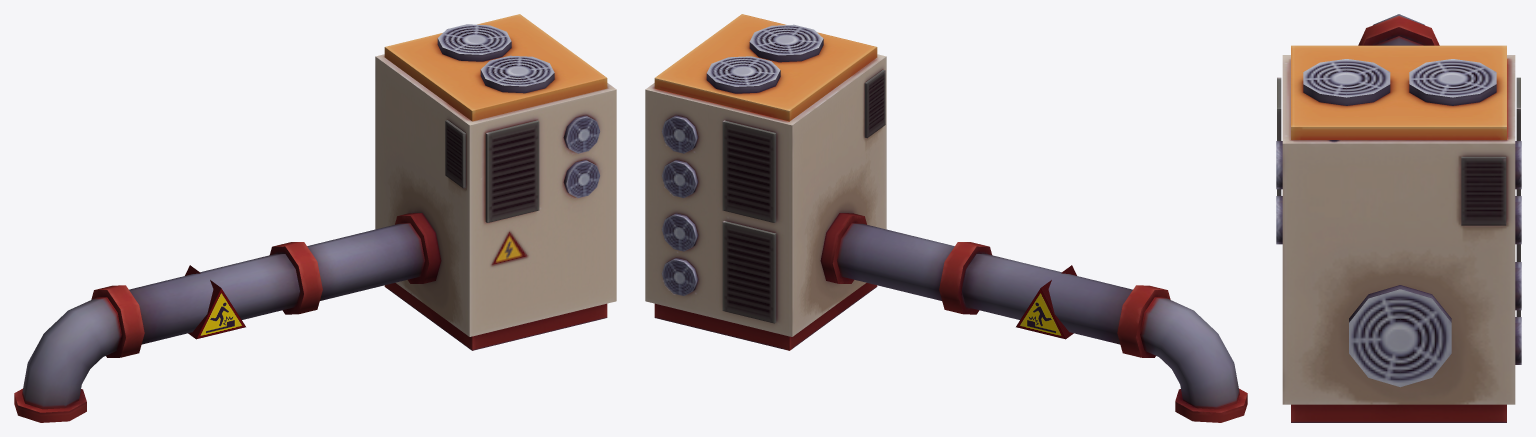
Rendered from Obstacle_AC2_2L_Jump.FBX.
3 renders of one model, left to right at view 1: azimuth 30°, elevation 25°; view 2: azimuth 150°, elevation 25°; view 3: azimuth 270°, elevation 25°, orthographic. The views are drawn at different scales.
Visible parts, largest first — view 1: Obstacle_AC2_2L_Jump; view 2: Obstacle_AC2_2L_Jump; view 3: Obstacle_AC2_2L_Jump.
Part boxes in pixels (x1,y1,x2,y2): Obstacle_AC2_2L_Jump: [14, 14, 616, 422]; Obstacle_AC2_2L_Jump: [645, 14, 1247, 422]; Obstacle_AC2_2L_Jump: [1276, 14, 1521, 422].
Bounding box in the file's own units: 37.75 × 15.93 × 11.64.
